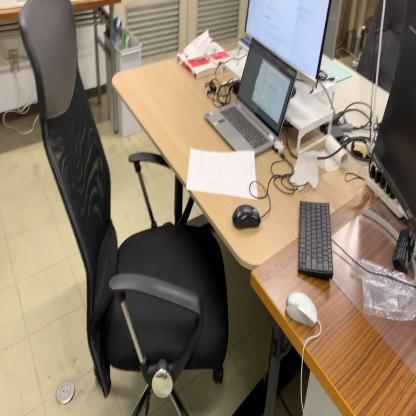chair: (18, 1, 228, 416)
